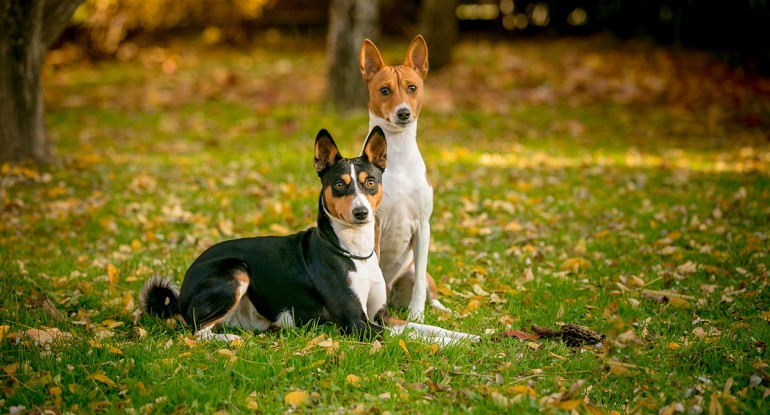dog: (130, 108, 402, 346), (341, 28, 463, 327)
